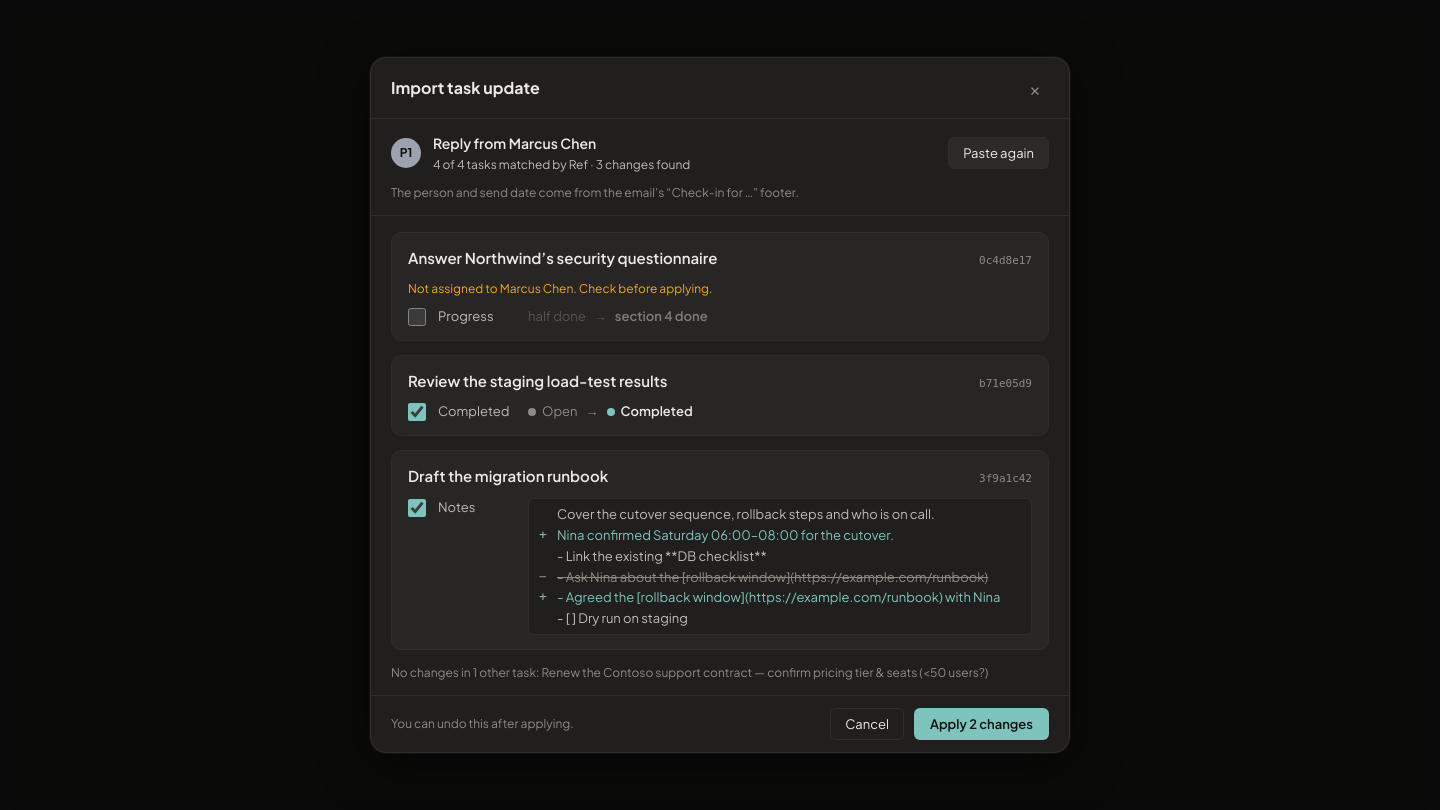
Test: CheckinImportDialog — reading a paste › a task not assigned to the person who replied (a forwarded email): a note, its rows unticked
The image size is (1440, 810).
Expected: the element "Answer Northwind’s security questionnaire" shows "Not assigned to Marcus Chen. Check before applying.", [391,232,1049,341]
Expected: the button "Apply 2 changes" is shown, [914,708,1049,740]
Click the checkbox labelled "Progress" at (417, 317), box [408,308,426,326]
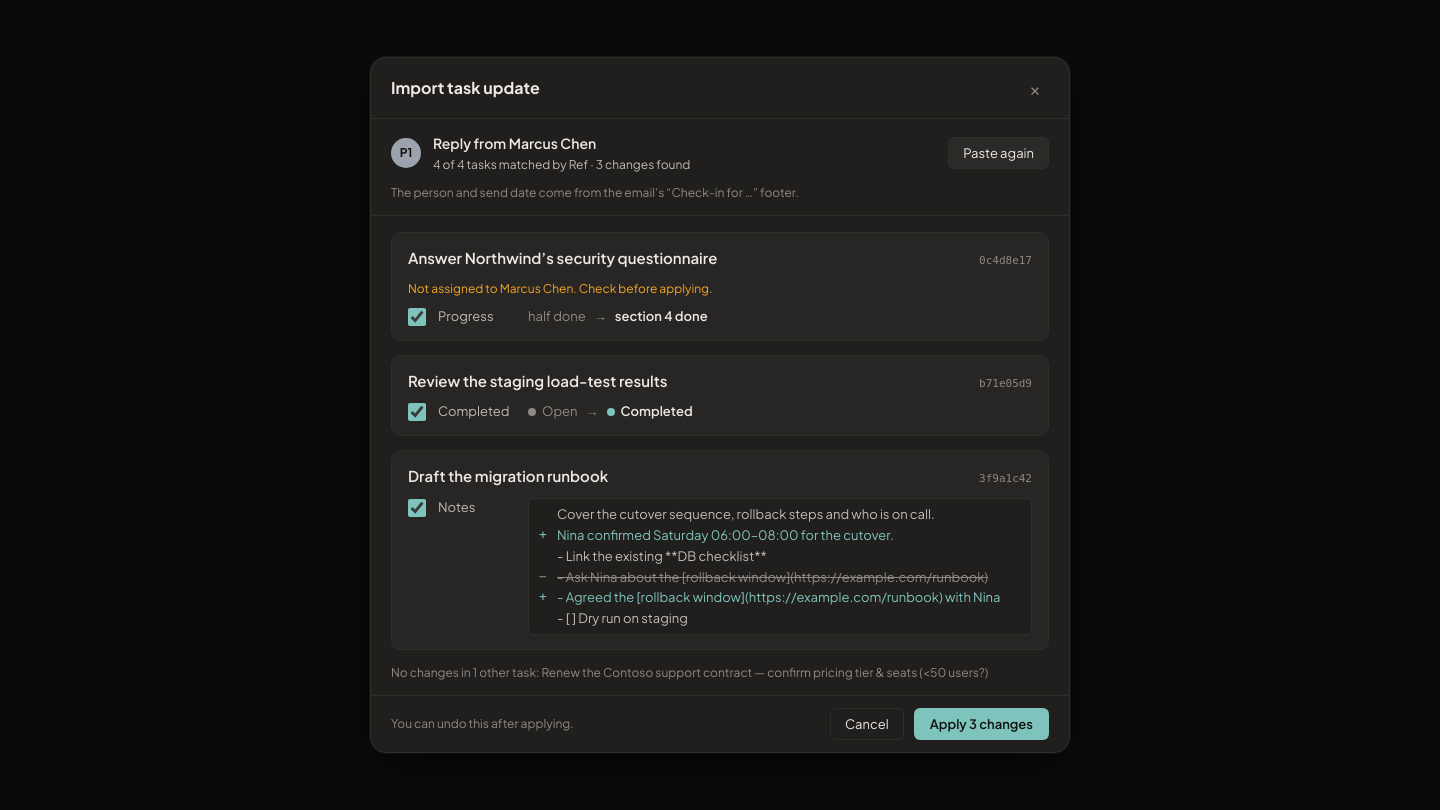
Expected: the element "Review the staging load-test results" does not show "Not assigned"
Expected: the button "Apply 3 changes" is shown, [914,708,1049,740]
